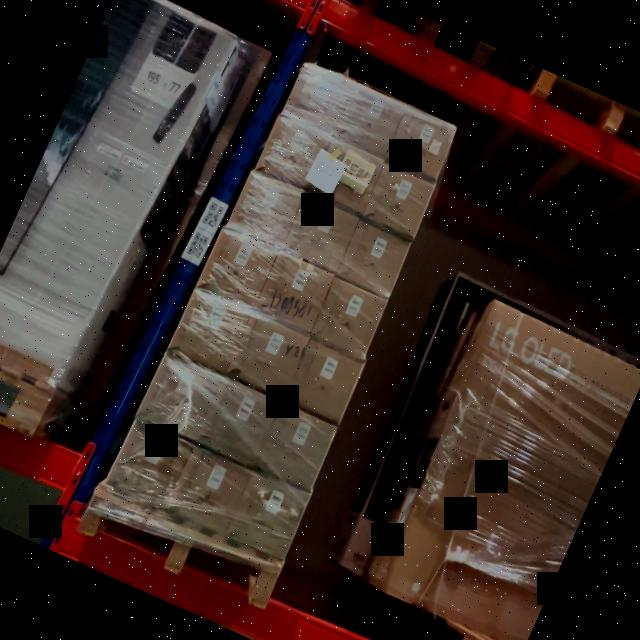box: (106, 420, 195, 510), (138, 356, 224, 442), (228, 472, 312, 560), (198, 379, 280, 466), (170, 288, 252, 374), (256, 404, 338, 490), (168, 450, 250, 536), (230, 314, 310, 398), (284, 341, 364, 424), (200, 230, 278, 310), (256, 252, 334, 332), (311, 280, 388, 358), (230, 172, 305, 248), (338, 222, 412, 298), (284, 196, 358, 271), (311, 141, 384, 215), (256, 117, 328, 191), (364, 166, 435, 238), (282, 64, 352, 135), (334, 87, 404, 157), (386, 110, 456, 180)
